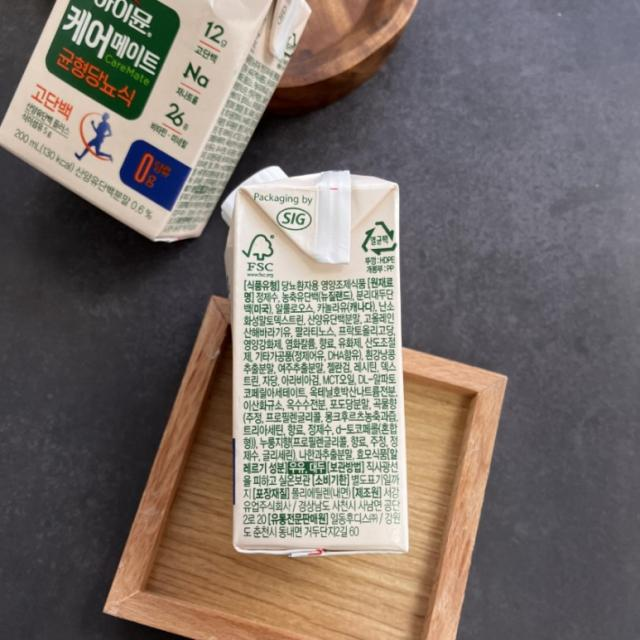SterilizedPack: (360, 217, 398, 257)
